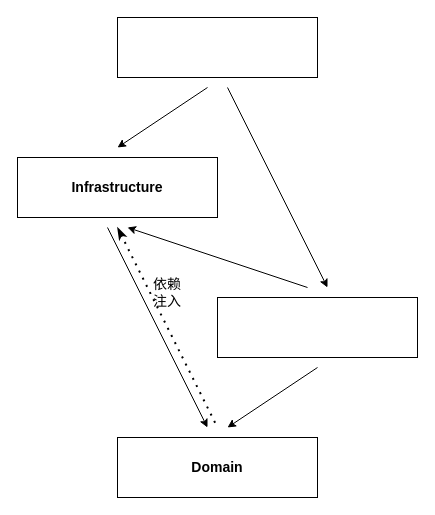
This 435x515 diagram has some shape labels left out. The shapes that lost their labels are listed below. From the top down, each one's centre as x and y in pixels, then its label:
the point at 217,47: Presentation
the point at 317,327: Application
